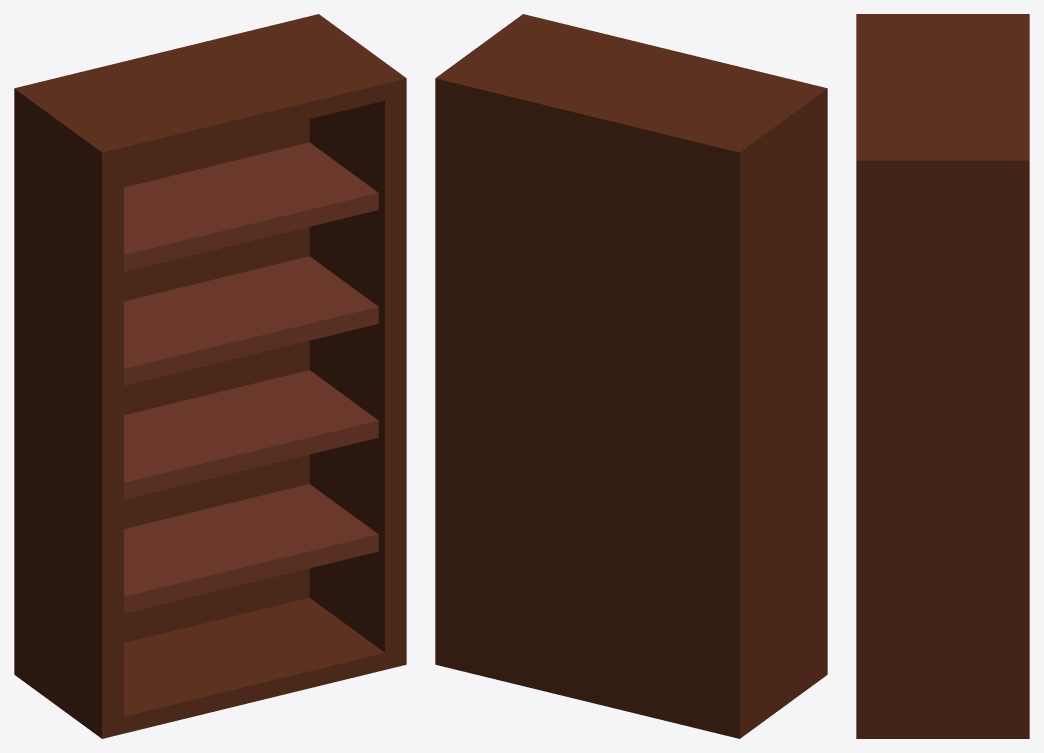
The model's file is Estanteria.fbx.
3 views of the same model, side by side, from view 1: azimuth 30°, elevation 25°; view 2: azimuth 150°, elevation 25°; view 3: azimuth 270°, elevation 25° (orthographic).
Parts seen in each view (by area): view 1: Cube; view 2: Cube; view 3: Cube.
Part boxes in pixels (x1=…): Cube: x1=14, y1=14, x2=406, y2=738; Cube: x1=435, y1=14, x2=827, y2=738; Cube: x1=856, y1=14, x2=1029, y2=738.
Size of the model in its own units: 1400 by 2575 by 700.
